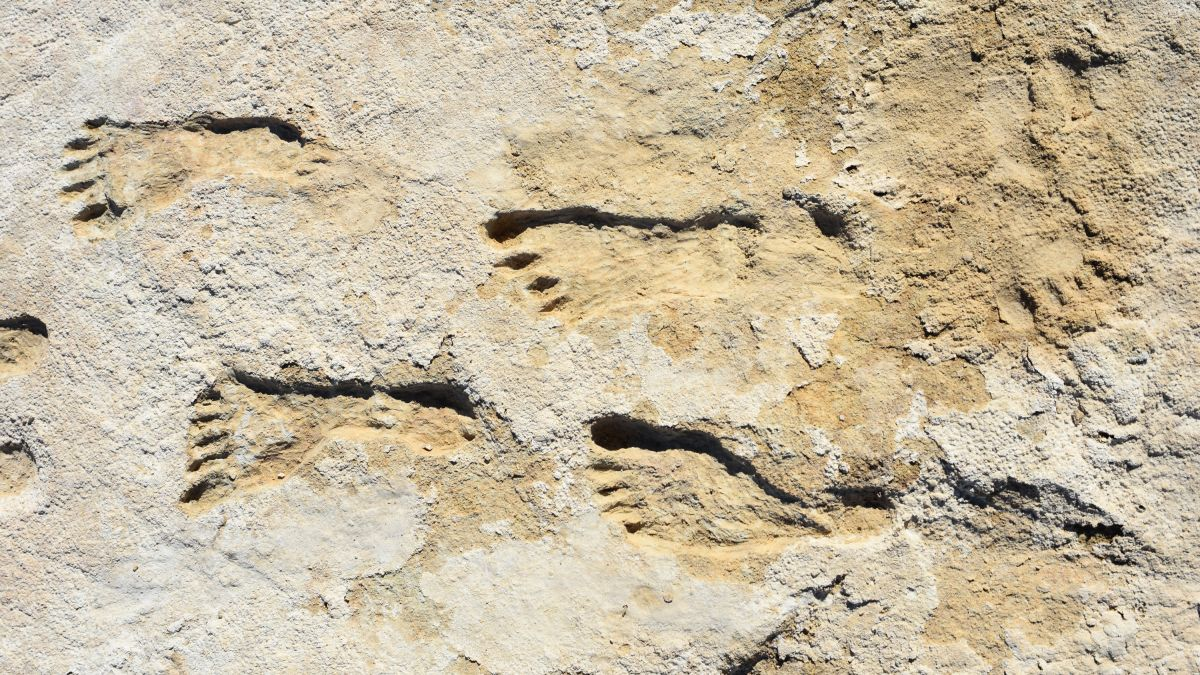human_footprint: (493, 180, 866, 326), (564, 407, 904, 562), (186, 344, 483, 507), (46, 89, 345, 226)
